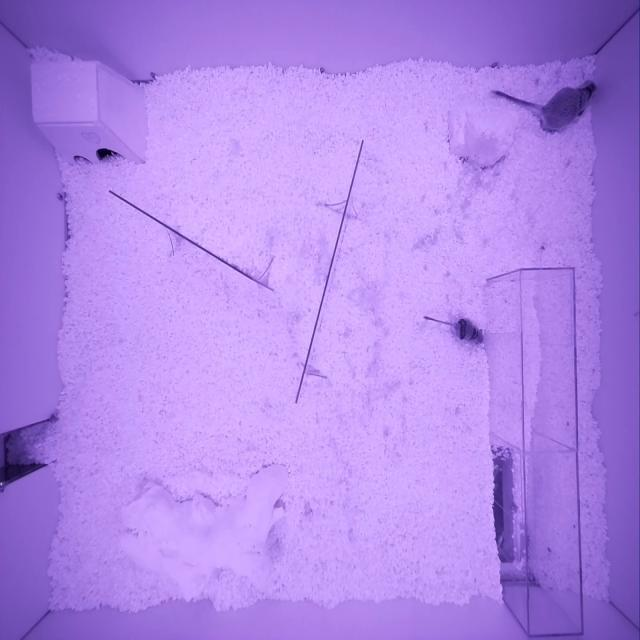adult_front: (543, 81, 597, 128)
pup_h_stripe: (450, 317, 484, 345)
